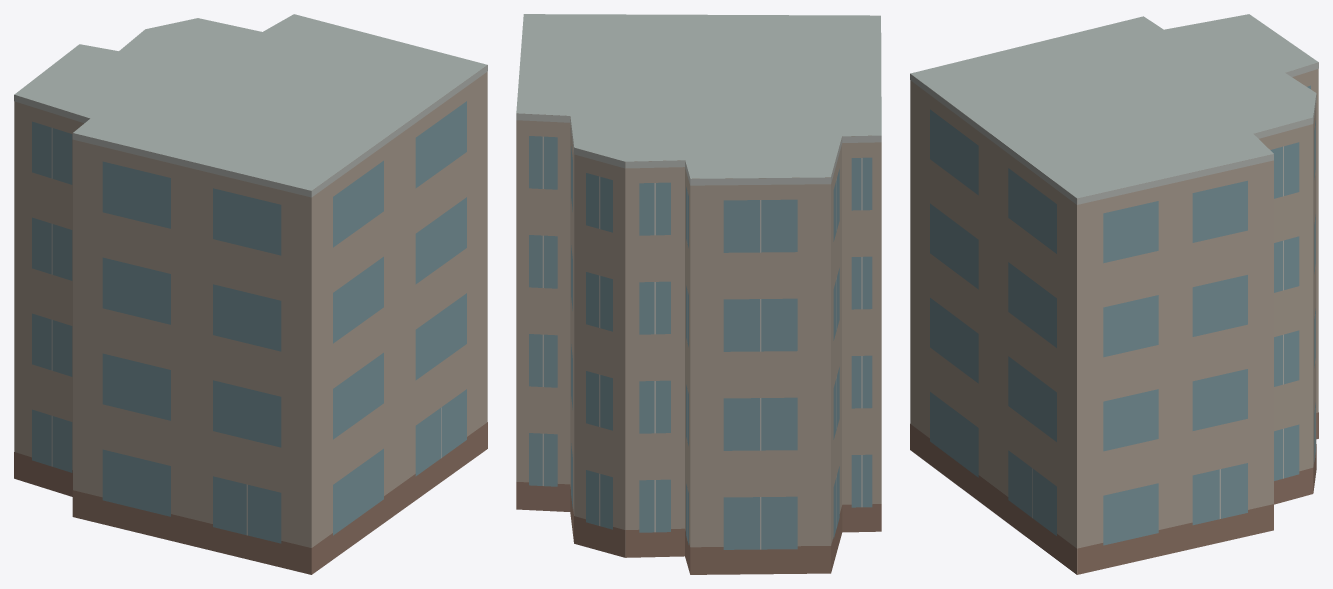
Rendered from survey-upis-32504038.glb.
3 renders of one model, left to right at view 1: azimuth 30°, elevation 25°; view 2: azimuth 150°, elevation 25°; view 3: azimuth 270°, elevation 25°, orthographic. The views are drawn at different scales.
Parts seen in each view (by area): view 1: survey-upis-32504038.tmp; view 2: survey-upis-32504038.tmp; view 3: survey-upis-32504038.tmp.
Boxes of the visible parts, bbox=[...] form: survey-upis-32504038.tmp: bbox=[14, 14, 487, 574]; survey-upis-32504038.tmp: bbox=[516, 14, 881, 574]; survey-upis-32504038.tmp: bbox=[910, 14, 1318, 574].
Size of the model in its own units: 14.88 by 14.15 by 13.93.
